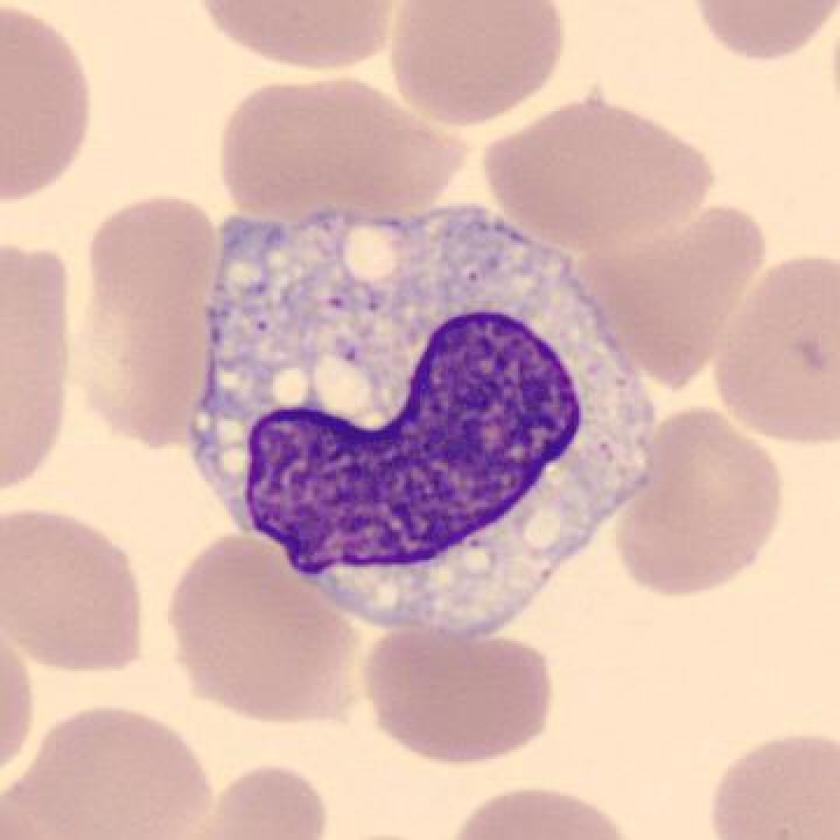monocyte: (167, 177, 680, 663)
